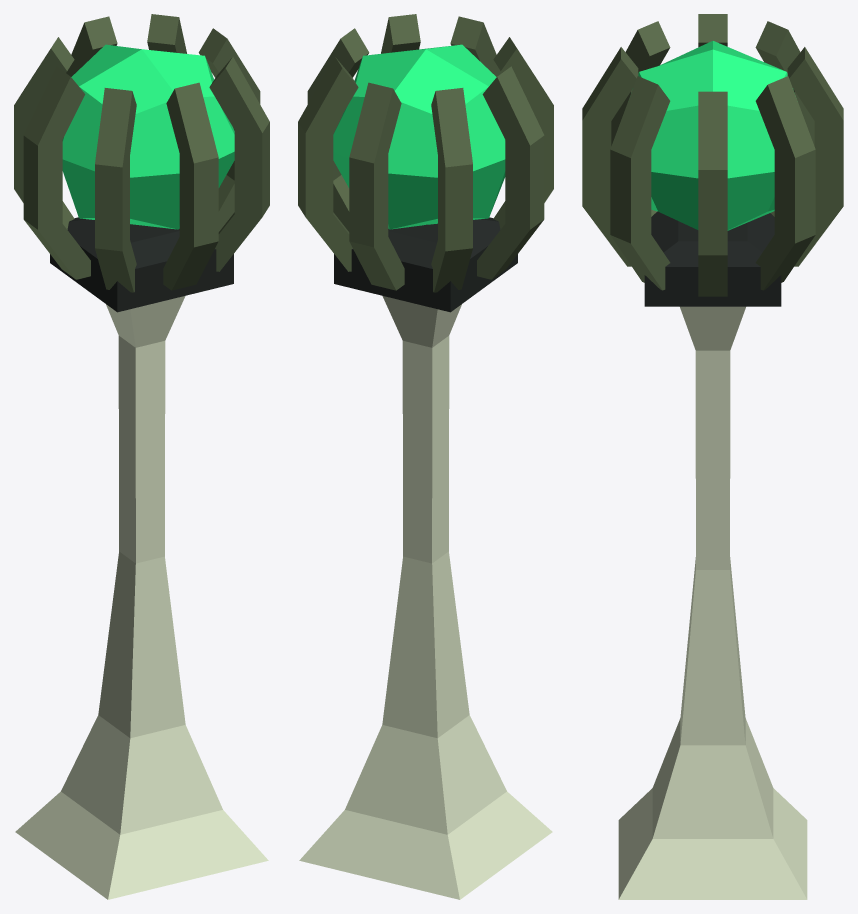
Rendered from Model_Undead_1x1D.fbx.
3 renders of one model, left to right at view 1: azimuth 30°, elevation 25°; view 2: azimuth 150°, elevation 25°; view 3: azimuth 270°, elevation 25°, orthographic.
Visible parts, largest first — view 1: Model_Frost_1x1D; view 2: Model_Frost_1x1D; view 3: Model_Frost_1x1D.
Part boxes in pixels (bbox=[...]): Model_Frost_1x1D: bbox=[14, 14, 269, 899]; Model_Frost_1x1D: bbox=[298, 14, 553, 899]; Model_Frost_1x1D: bbox=[582, 14, 843, 899].
Bounding box in the file's own units: 128 × 439 × 128.
2 materials, 1 textured.
